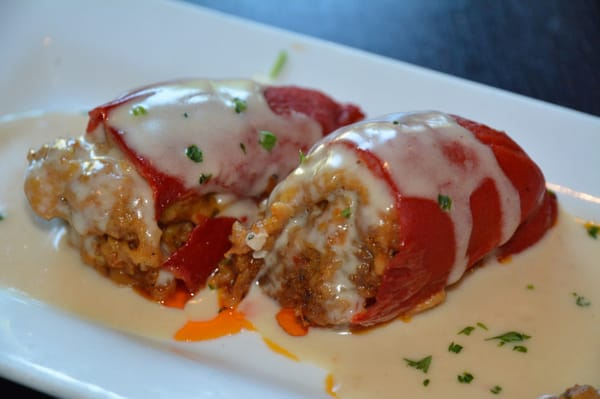salad: (247, 111, 557, 333)
